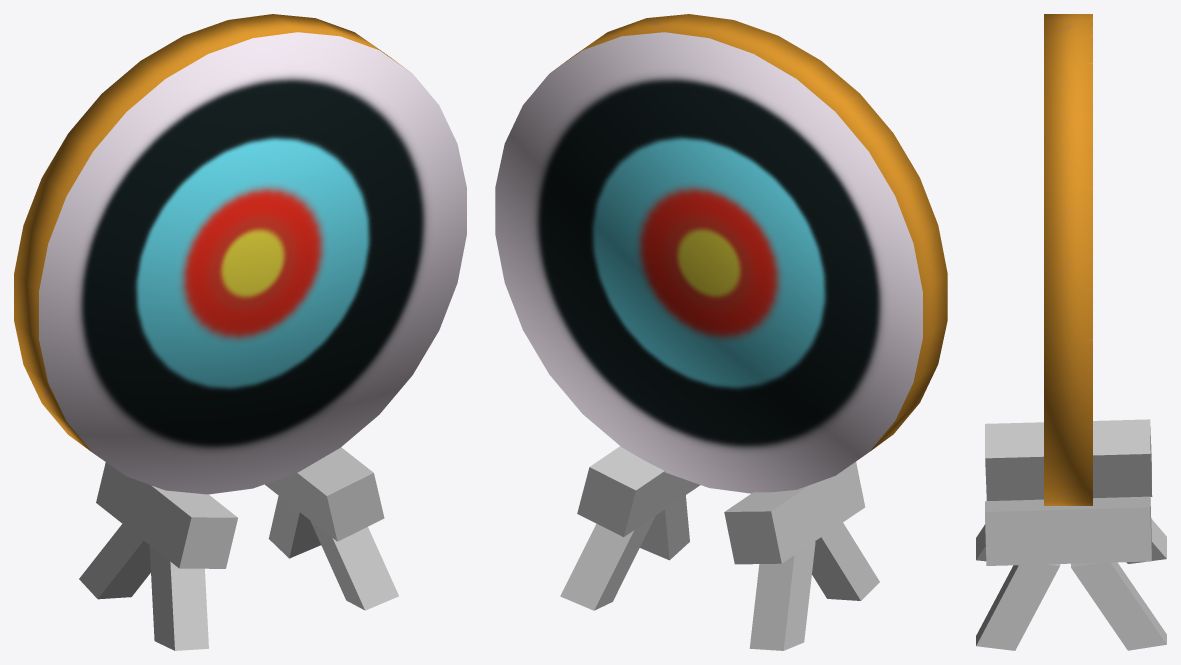
Rendered from cible.fbx.
3 renders of one model, left to right at view 1: azimuth 30°, elevation 25°; view 2: azimuth 150°, elevation 25°; view 3: azimuth 270°, elevation 25°, orthographic.
Parts seen in each view (by area): view 1: Cible; view 2: Cible; view 3: Cible.
Part boxes in pixels (left/top/right/bottom): Cible: left=14, top=14, right=466, bottom=650; Cible: left=495, top=14, right=947, bottom=650; Cible: left=976, top=14, right=1166, bottom=650.
Bounding box in the file's own units: 199 × 254 × 77.53.
